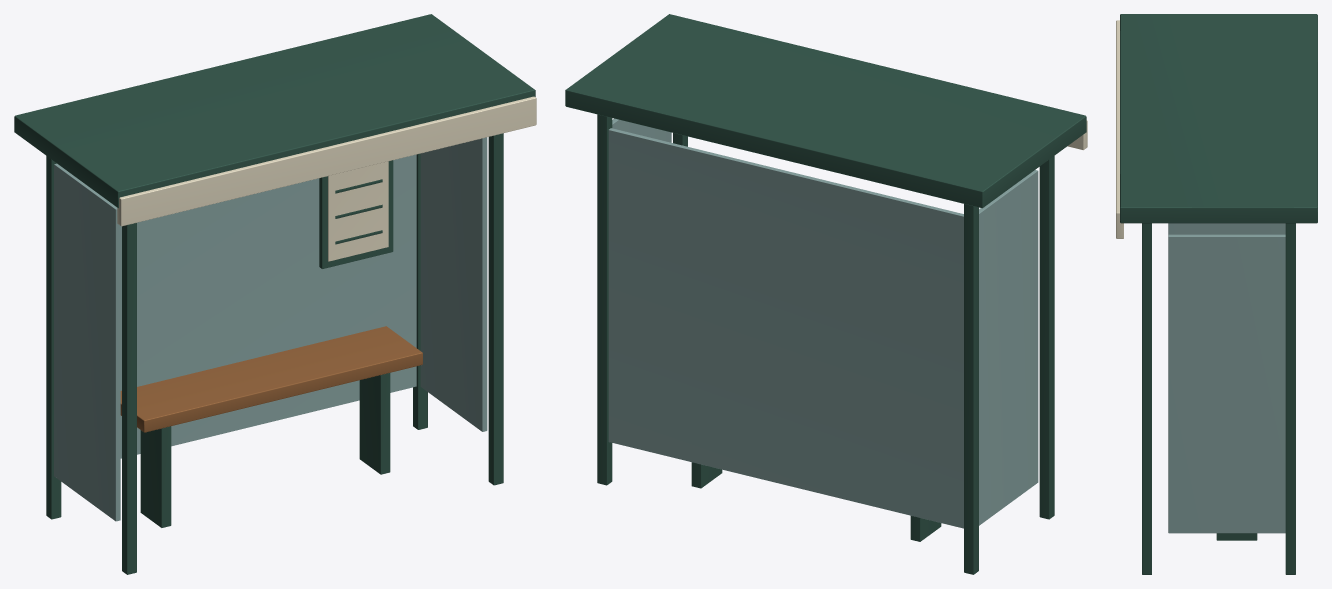
File: S056_bus_shelter_rebuilt.glb
The picture shows the model from 3 angles, left to right: view 1: azimuth 30°, elevation 25°; view 2: azimuth 150°, elevation 25°; view 3: azimuth 270°, elevation 25°; orthographic projection. The views are drawn at different scales.
Visible parts, largest first — view 1: Opaque_tinted_shelter_panel, Deep_green_outdoor_paint, Warm_ivory.001, Oiled_warm_oak.001; view 2: Opaque_tinted_shelter_panel, Deep_green_outdoor_paint; view 3: Deep_green_outdoor_paint, Opaque_tinted_shelter_panel, Warm_ivory.001.
Part boxes in pixels (x1,y1,x2,y2): Opaque_tinted_shelter_panel: [54, 137, 487, 521]; Deep_green_outdoor_paint: [14, 14, 535, 574]; Warm_ivory.001: [117, 96, 536, 261]; Oiled_warm_oak.001: [120, 326, 422, 432]; Opaque_tinted_shelter_panel: [608, 118, 1038, 528]; Deep_green_outdoor_paint: [565, 14, 1086, 574]; Deep_green_outdoor_paint: [1120, 14, 1317, 574]; Opaque_tinted_shelter_panel: [1168, 223, 1285, 533]; Warm_ivory.001: [1116, 20, 1123, 238].
Size of the model in its own units: 2.82 by 2.56 by 1.24.
